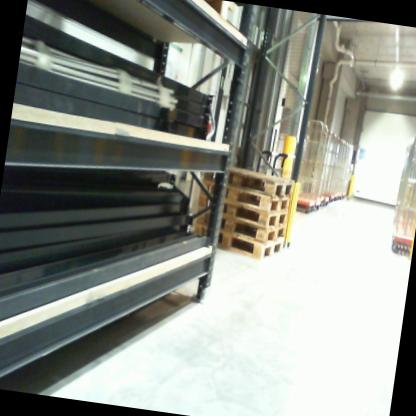pallet: (60, 0, 249, 31), (193, 156, 301, 202), (186, 219, 288, 264), (191, 204, 290, 248), (199, 170, 296, 213), (195, 194, 293, 230)
